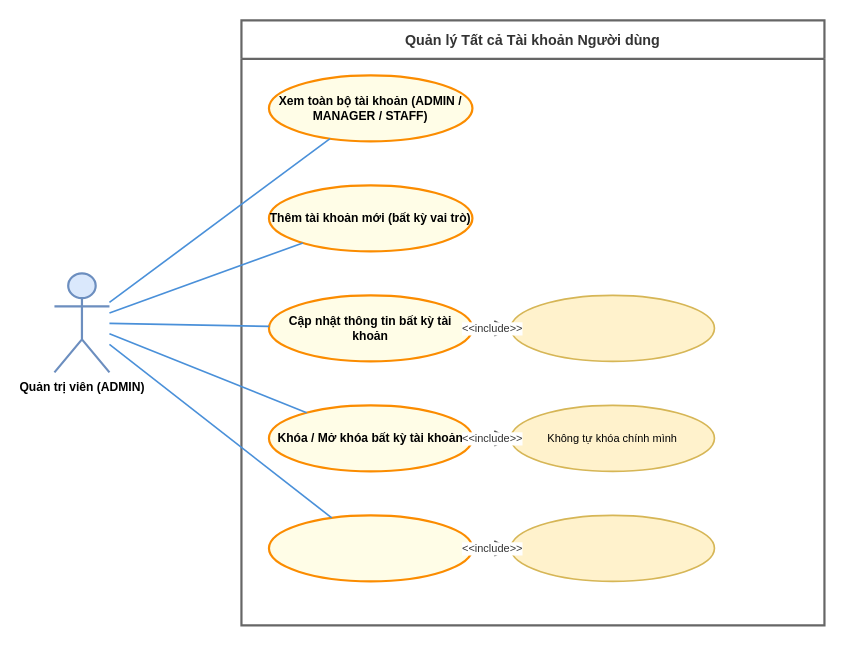
Some shapes in this 844 by 645 pixel diagram are drawn without their labels. Each missing label, with the centre of its shape:
Kiểm tra ràng buộc khóa ngoại (receipts): (612,548)
Kiểm tra: không tự hạ quyền ADMIN đang đăng nhập: (612,328)
Xóa tài khoản (nếu chưa phát sinh GD): (370,548)
